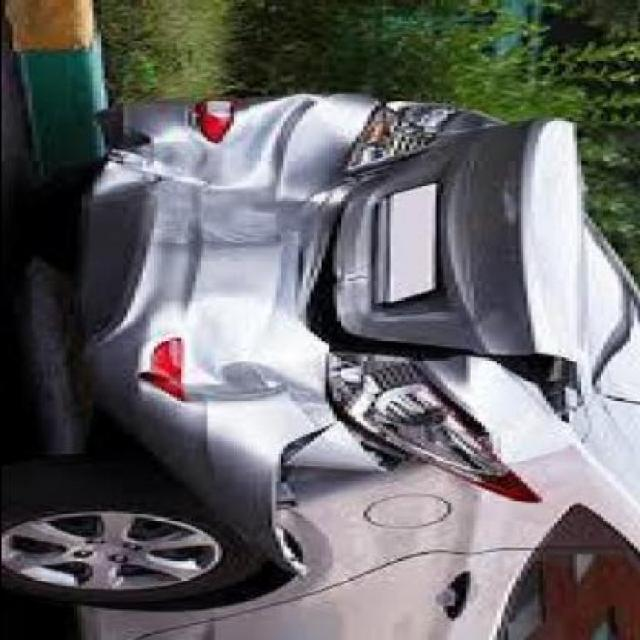damage: (89, 88, 600, 600)
